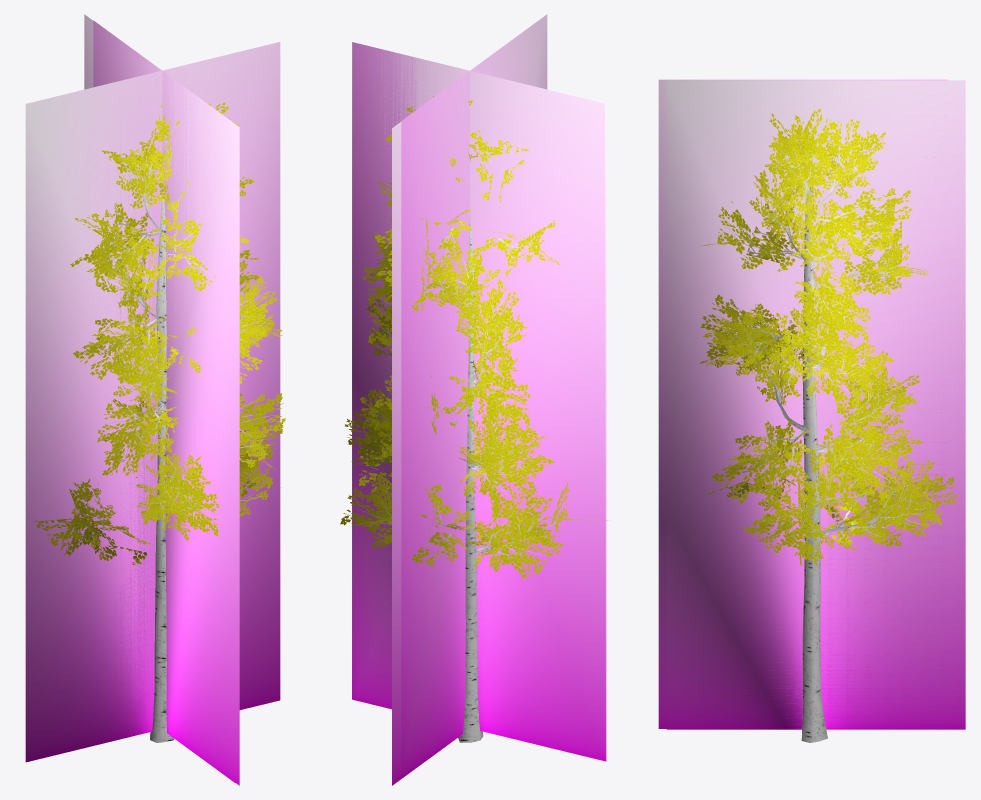
The model's file is FAE_Birch_A.fbx.
3 views of the same model, side by side, from view 1: azimuth 30°, elevation 25°; view 2: azimuth 150°, elevation 25°; view 3: azimuth 270°, elevation 25° (orthographic).
Visible parts, largest first — view 1: FAE_Birch_A_Billboard, FAE_Birch_A_LOD0; view 2: FAE_Birch_A_Billboard, FAE_Birch_A_LOD0; view 3: FAE_Birch_A_Billboard, FAE_Birch_A_LOD0.
Boxes of the visible parts, x1,y1,x2,y2 form: FAE_Birch_A_Billboard: (25,14,280,785); FAE_Birch_A_LOD0: (34,101,285,742); FAE_Birch_A_Billboard: (352,14,606,785); FAE_Birch_A_LOD0: (340,96,610,742); FAE_Birch_A_Billboard: (658,79,965,729); FAE_Birch_A_LOD0: (699,108,957,742).
Size of what is drawn, in the model's own units: 933 by 2300 by 990.
Materials: 3 (2 with a texture image).
